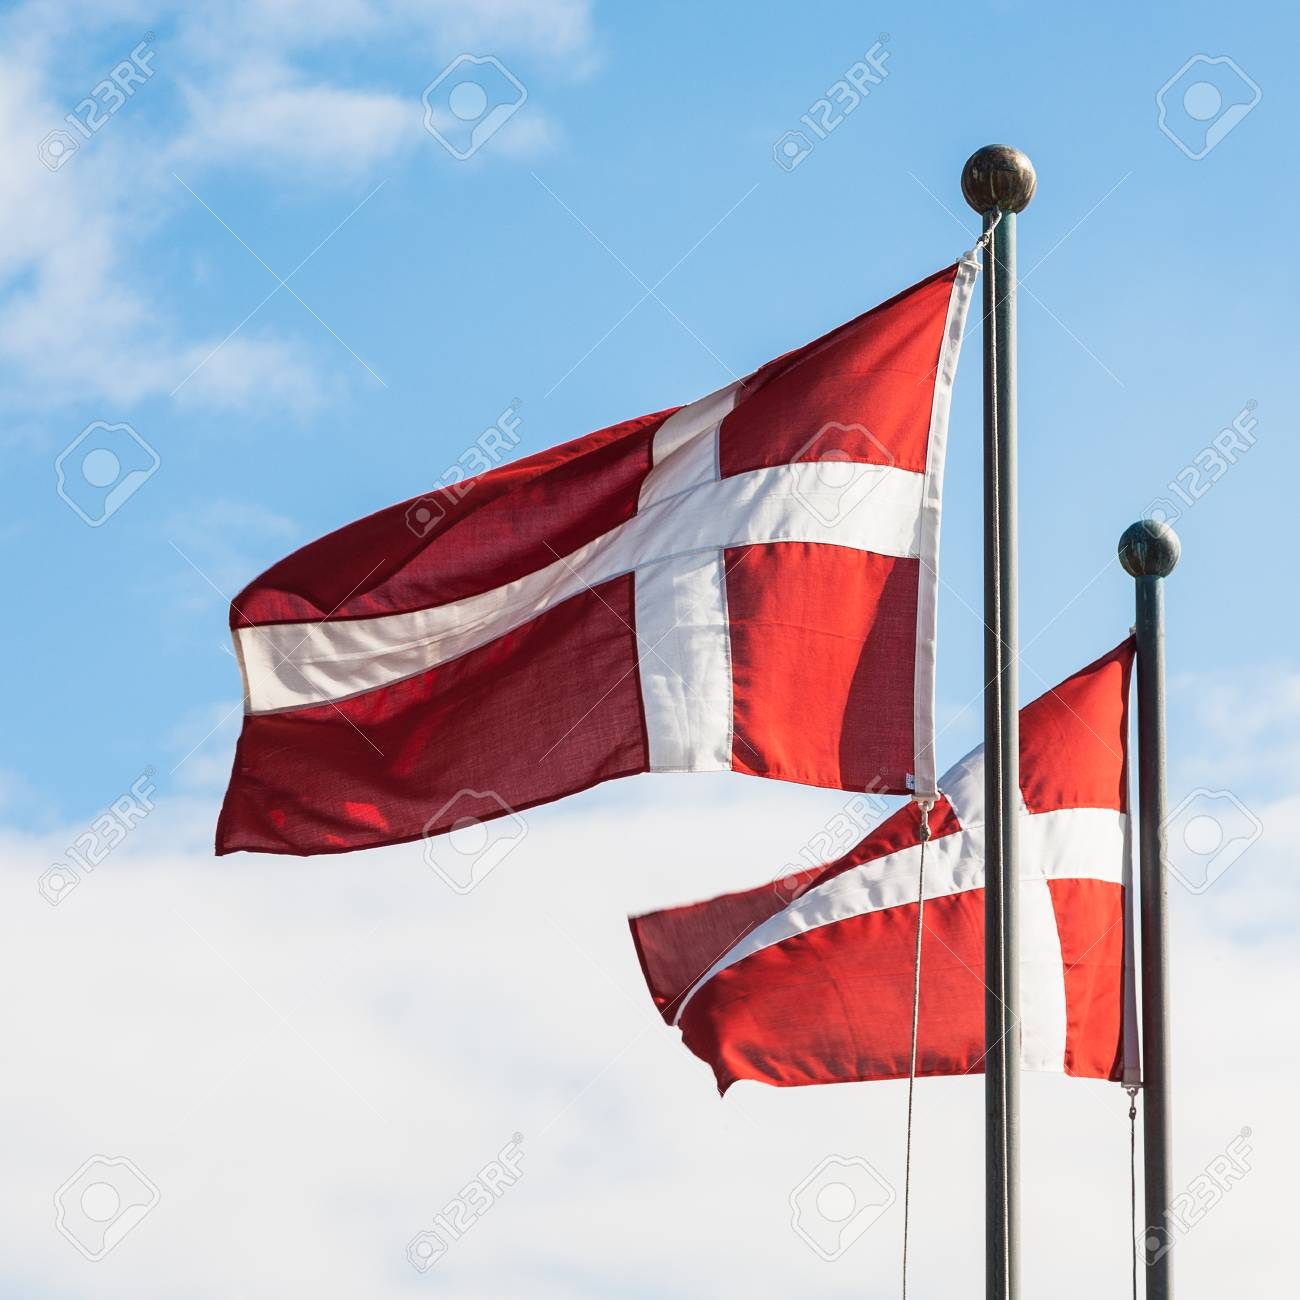Flag: (213, 221, 993, 861), (627, 627, 1132, 1096)
